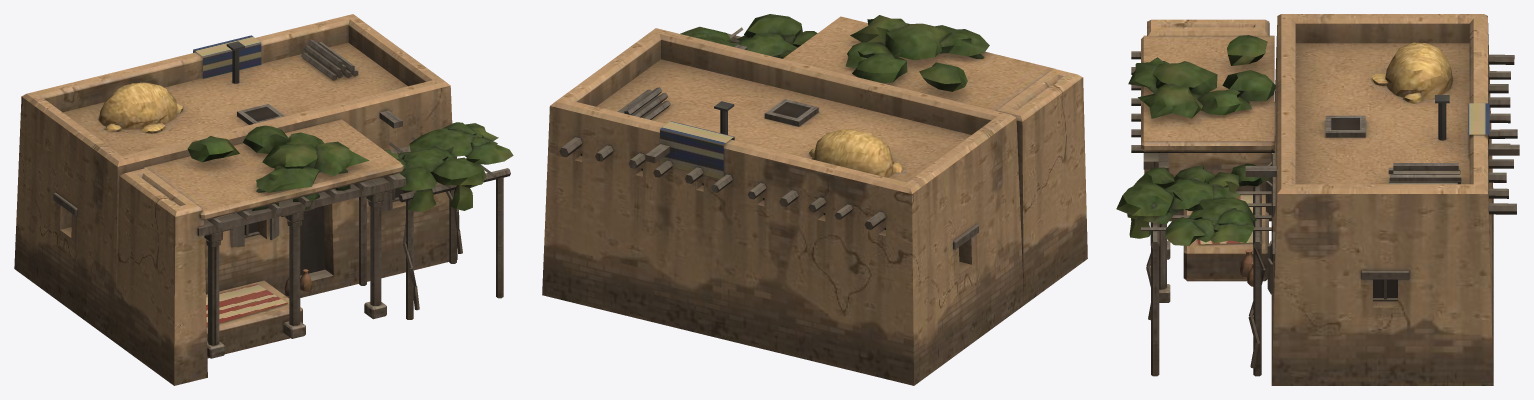
The picture shows the model from 3 angles, left to right: view 1: azimuth 30°, elevation 25°; view 2: azimuth 150°, elevation 25°; view 3: azimuth 270°, elevation 25°; orthographic projection. The views are drawn at different scales.
Parts seen in each view (by area): view 1: oh_a; view 2: oh_a; view 3: oh_a.
Boxes of the visible parts, x1,y1,x2,y2 form: oh_a: (14,14,513,385); oh_a: (542,14,1087,385); oh_a: (1116,14,1519,385).
Bounding box in the file's own units: 7.93 × 4.09 × 7.09.
Materials: 1 (1 with a texture image).
